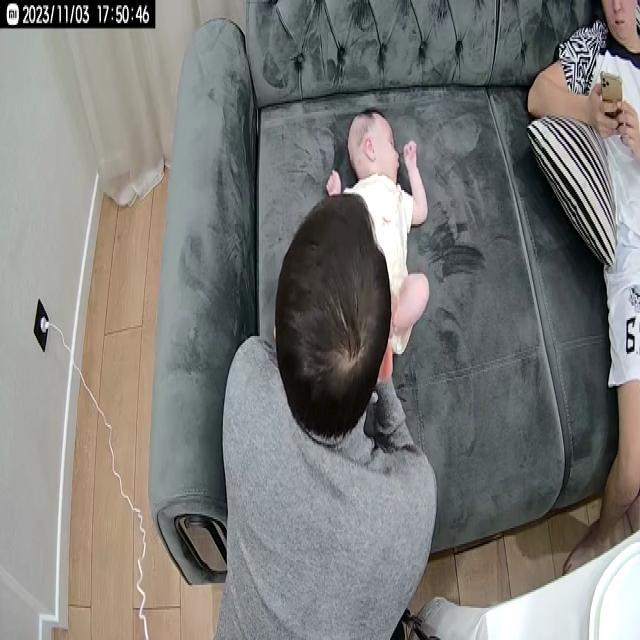baby: (324, 108, 432, 354)
